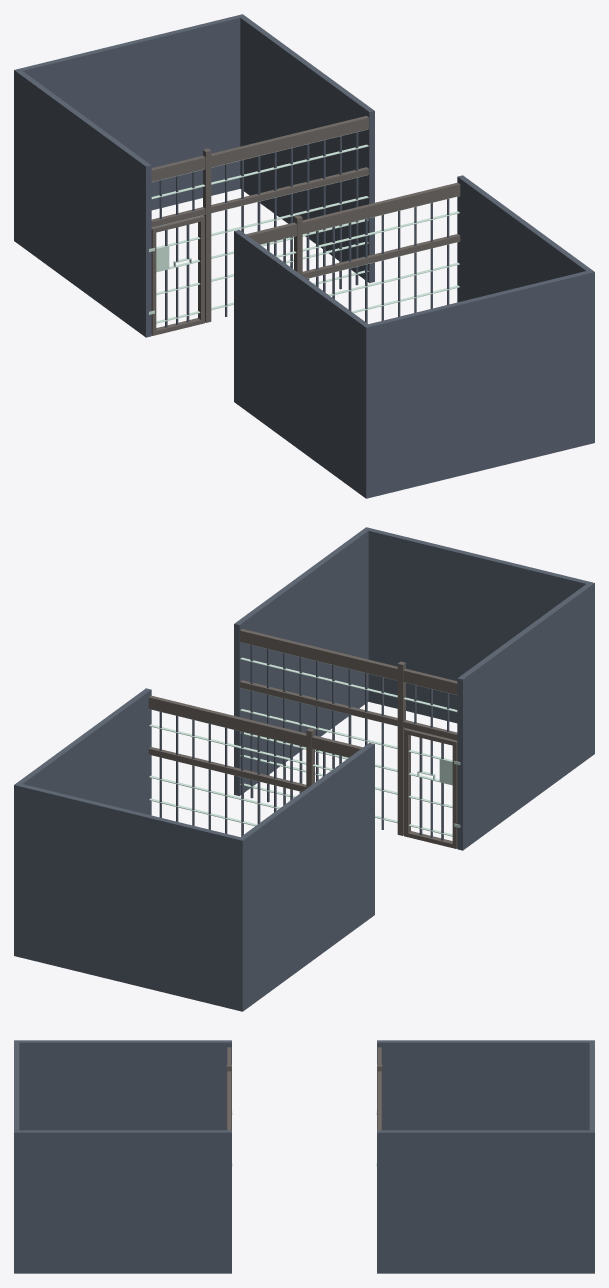
File: MapRooms.fbx
The picture shows the model from 3 angles, top to bottom: view 1: azimuth 30°, elevation 25°; view 2: azimuth 150°, elevation 25°; view 3: azimuth 270°, elevation 25°; orthographic projection. The views are drawn at different scales.
Visible parts, largest first — view 1: Cube.022, Cube.001, Cube.002, Cube.023, Cube.010, Cube.003, Cube.024, Cube.004; view 2: Cube.001, Cube.022, Cube.023, Cube.002, Cube.033, Cube.024, Cube.003, Cube.025; view 3: Cube.001, Cube.022, Cube.002, Cube.023.
Part boxes in pixels (x1=…): Cube.022: x1=234, y1=175, x2=594, y2=498; Cube.001: x1=14, y1=14, x2=374, y2=337; Cube.002: x1=151, y1=116, x2=368, y2=181; Cube.023: x1=246, y1=182, x2=460, y2=244; Cube.010: x1=151, y1=215, x2=204, y2=335; Cube.003: x1=151, y1=167, x2=368, y2=227; Cube.024: x1=302, y1=234, x2=460, y2=278; Cube.004: x1=203, y1=148, x2=211, y2=322; Cube.001: x1=14, y1=688, x2=374, y2=1011; Cube.022: x1=234, y1=527, x2=594, y2=850; Cube.023: x1=240, y1=629, x2=457, y2=694; Cube.002: x1=148, y1=695, x2=362, y2=757; Cube.033: x1=404, y1=728, x2=457, y2=848; Cube.024: x1=240, y1=680, x2=457, y2=740; Cube.003: x1=148, y1=747, x2=306, y2=791; Cube.025: x1=397, y1=661, x2=405, y2=835; Cube.001: x1=377, y1=1040, x2=594, y2=1273; Cube.022: x1=14, y1=1040, x2=231, y2=1273; Cube.002: x1=377, y1=1047, x2=381, y2=1130; Cube.023: x1=227, y1=1047, x2=231, y2=1130.
Size of the model in its own units: 420 by 300 by 1120.
